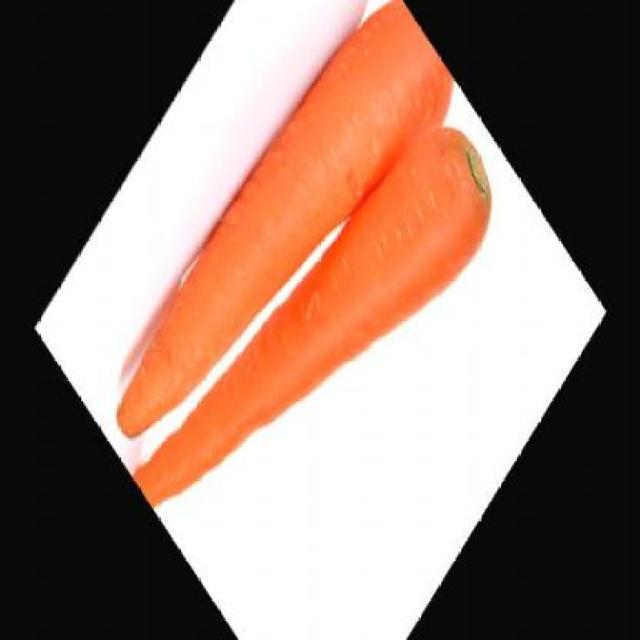carrot: (132, 32, 513, 638), (103, 0, 462, 537)
